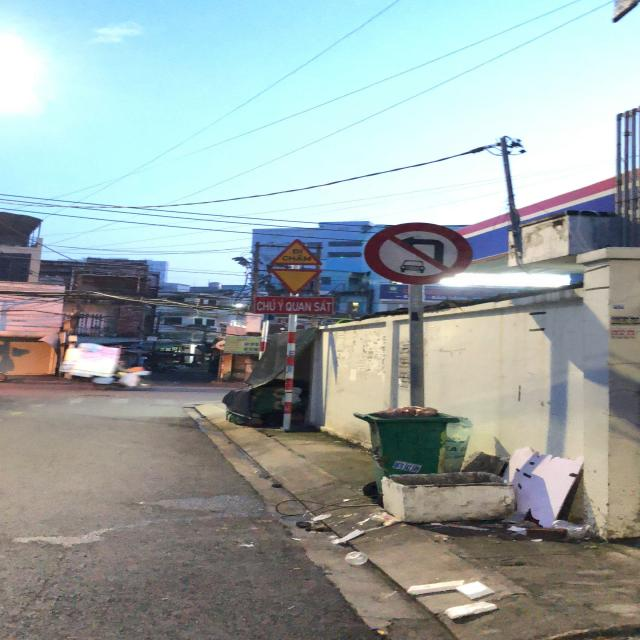Bien bao cam xe o to re trai: (364, 220, 485, 284)
Bien bao di cham: (270, 234, 328, 268)
Bien bao giao nhau voi duong uu tien: (262, 266, 324, 293)
